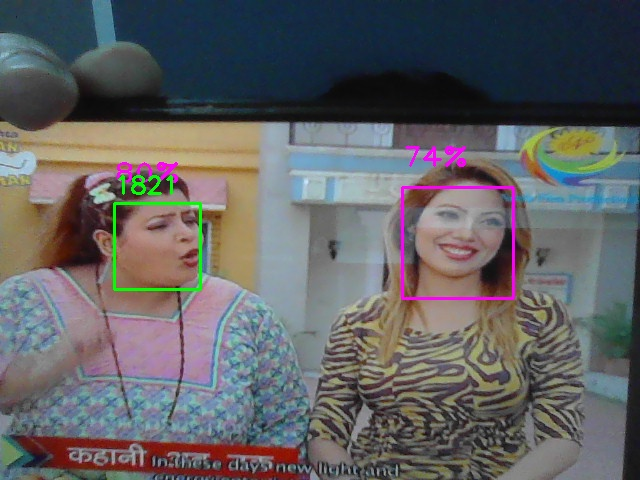fake: (114, 203, 201, 290)
